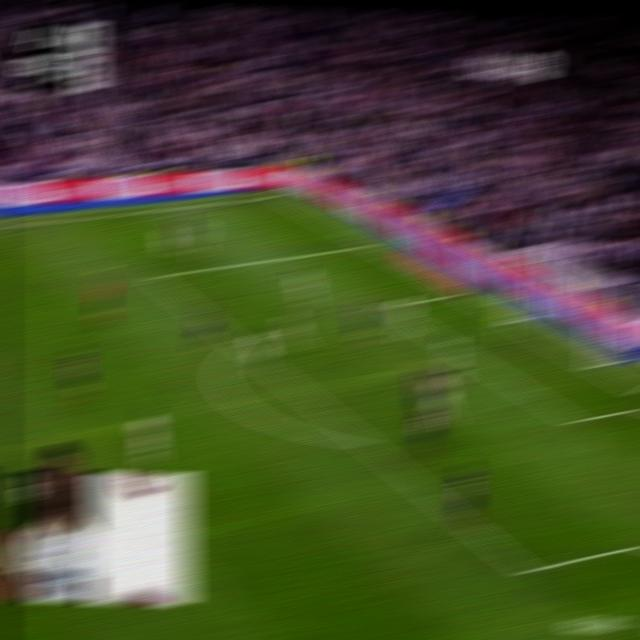bigarea_bottom_inner: (514, 554, 539, 586)
bigarea_top_inner: (142, 267, 162, 286)
bigarea_top_outter: (358, 237, 378, 251)
bottom_arc_area_intersection: (354, 430, 377, 454)
corner: (269, 191, 290, 201)
smallarea_top_inner: (377, 298, 397, 316)
top_arc_area_intersection: (228, 334, 247, 351)
